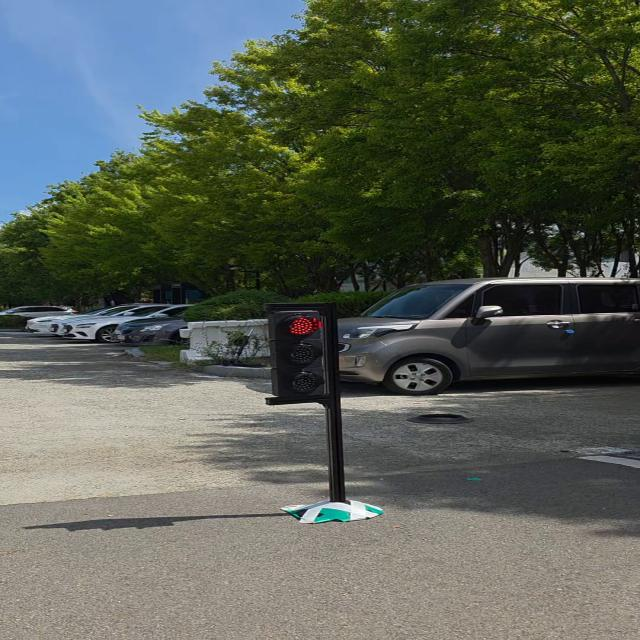red: (262, 302, 326, 403)
